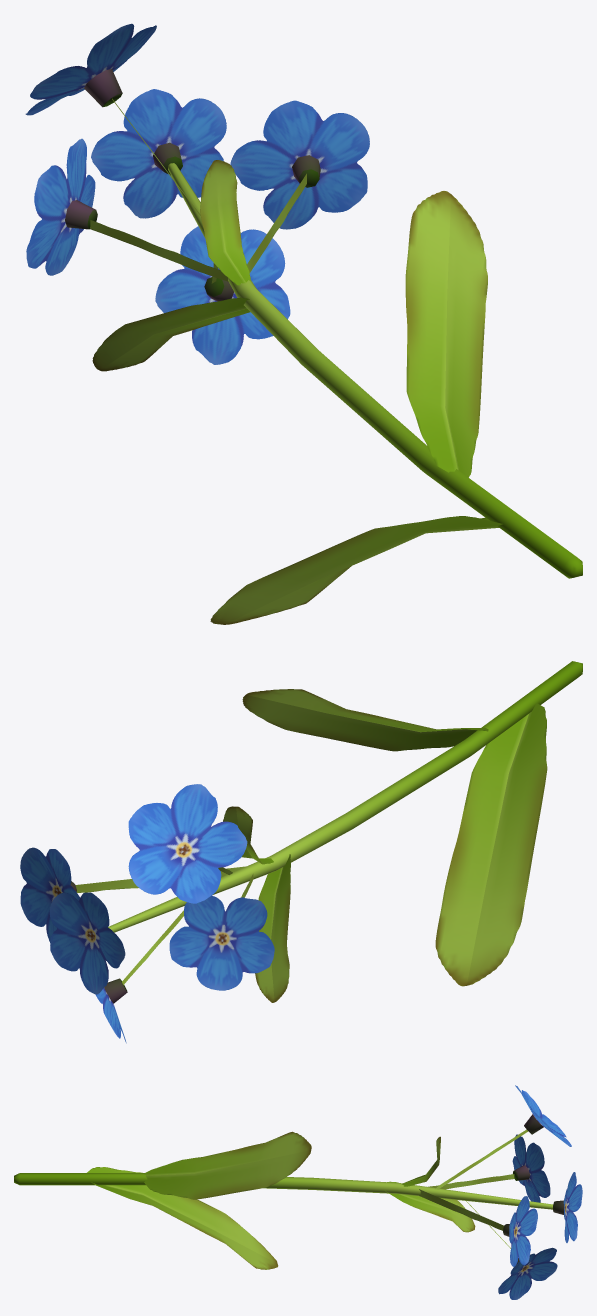
The model's file is SM_Forgetmenot_blue_small.fbx.
3 views of the same model, one above another, from view 1: azimuth 30°, elevation 25°; view 2: azimuth 150°, elevation 25°; view 3: azimuth 270°, elevation 25° (orthographic). The views are drawn at different scales.
Visible parts, largest first — view 1: Forgetmenot_blue_small; view 2: Forgetmenot_blue_small; view 3: Forgetmenot_blue_small.
Boxes of the visible parts, bbox=[...] form: Forgetmenot_blue_small: bbox=[25, 23, 582, 624]; Forgetmenot_blue_small: bbox=[20, 661, 582, 1043]; Forgetmenot_blue_small: bbox=[14, 1085, 582, 1299].
Bounding box in the file's own units: 29.11 × 25.97 × 62.01.
